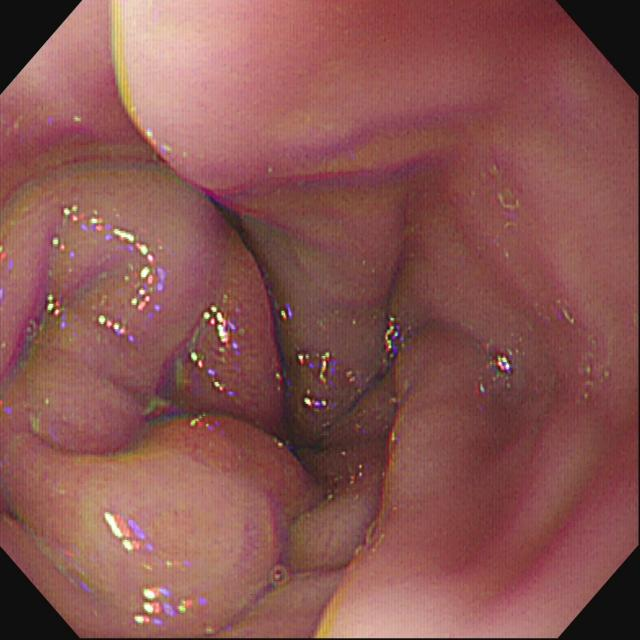U: (104, 513, 157, 554), (134, 587, 177, 629), (204, 305, 240, 354), (192, 355, 234, 396), (132, 268, 167, 314), (99, 316, 136, 343), (385, 316, 401, 356), (113, 229, 137, 251), (491, 354, 513, 377), (322, 352, 334, 386), (139, 243, 157, 265), (48, 295, 62, 319), (302, 397, 328, 408)
